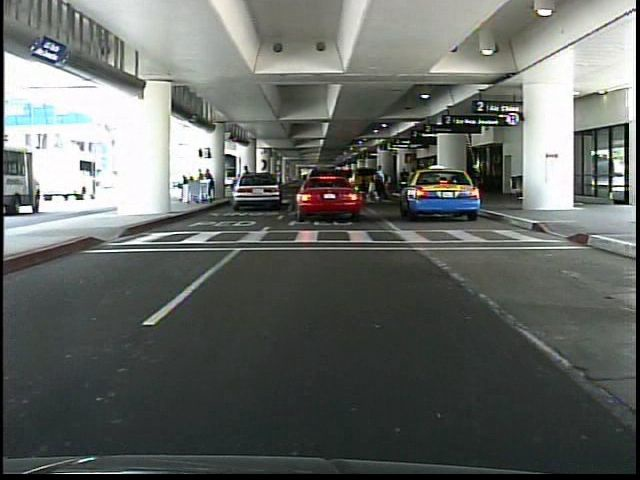person: (242, 163, 255, 205), (399, 165, 410, 202), (377, 164, 388, 200), (358, 171, 369, 202)
